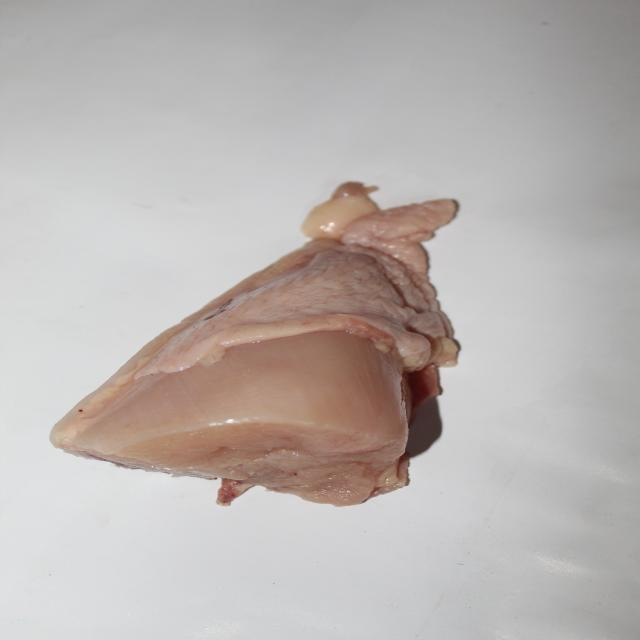chicken: (52, 180, 460, 503)
